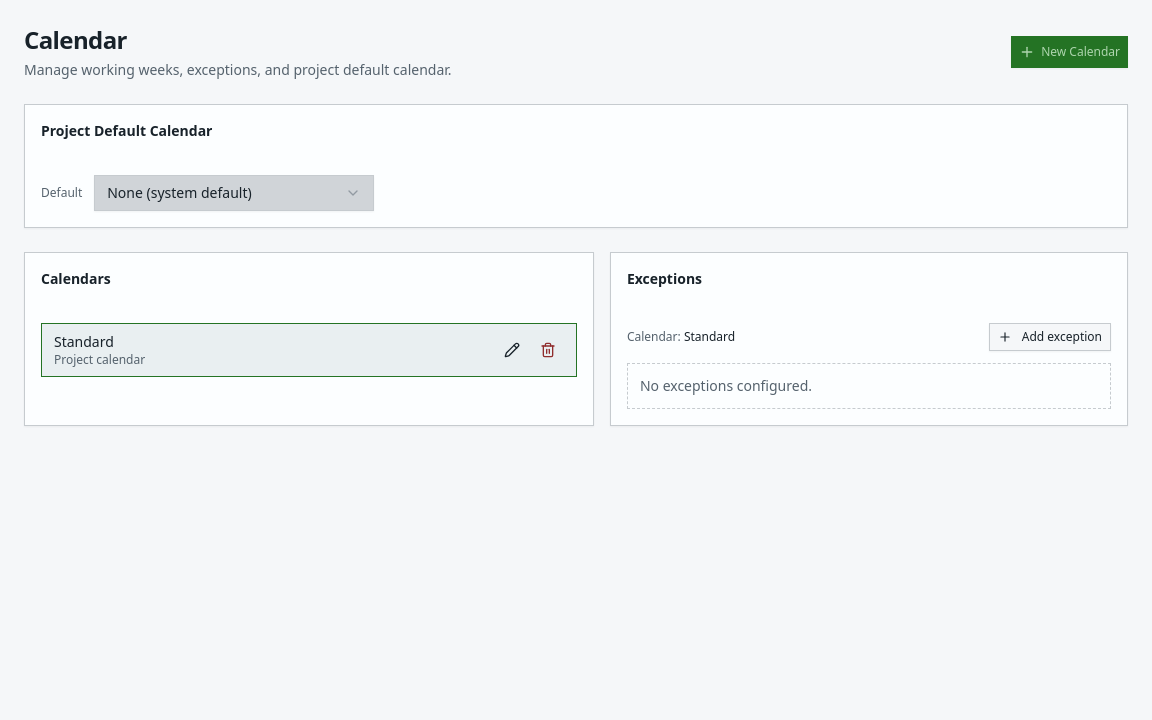
Test: CalendarPage › opens create-calendar dialog
What coordinates should you click on to do the following:
click the button "New Calendar"
I would click on:
 (1070, 52)
Its box is [1011,36,1128,68].
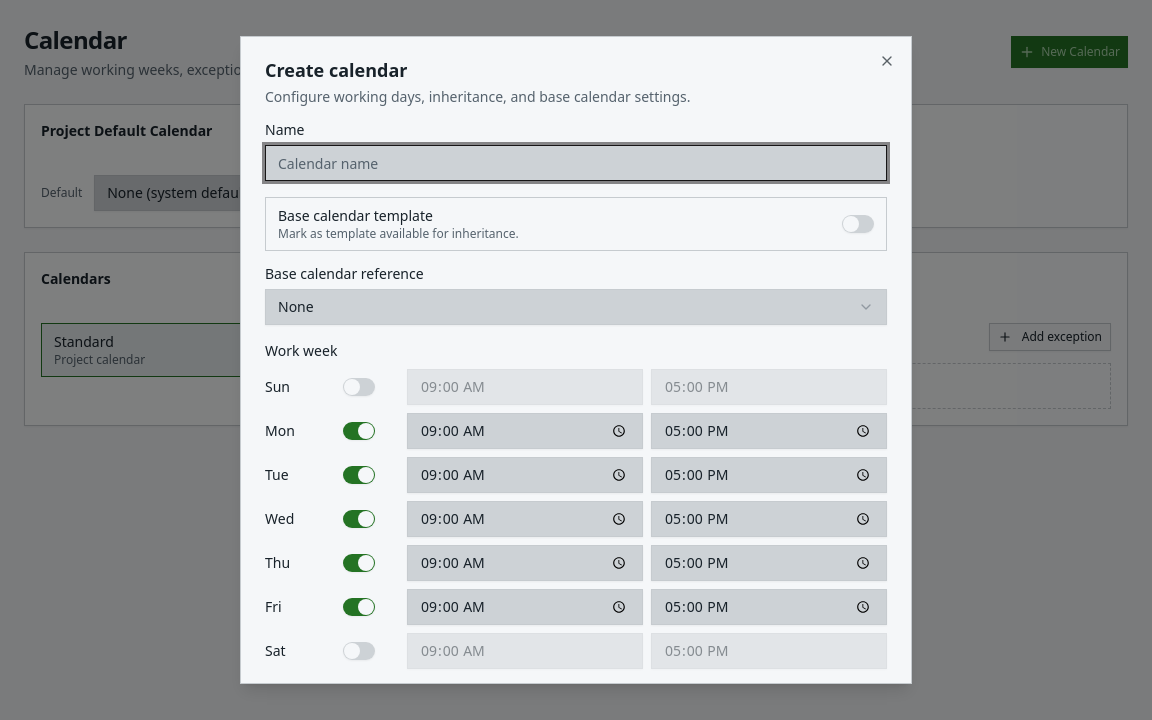
Check: the heading "Create calendar" is shown, box [265,58,407,82]
